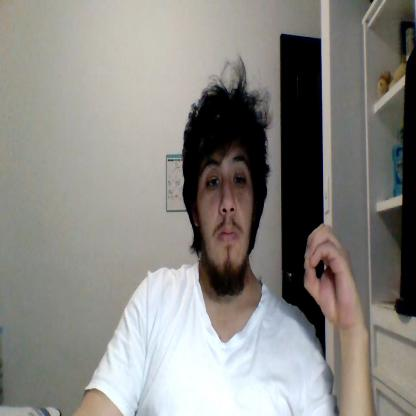O: (304, 223, 356, 328)
